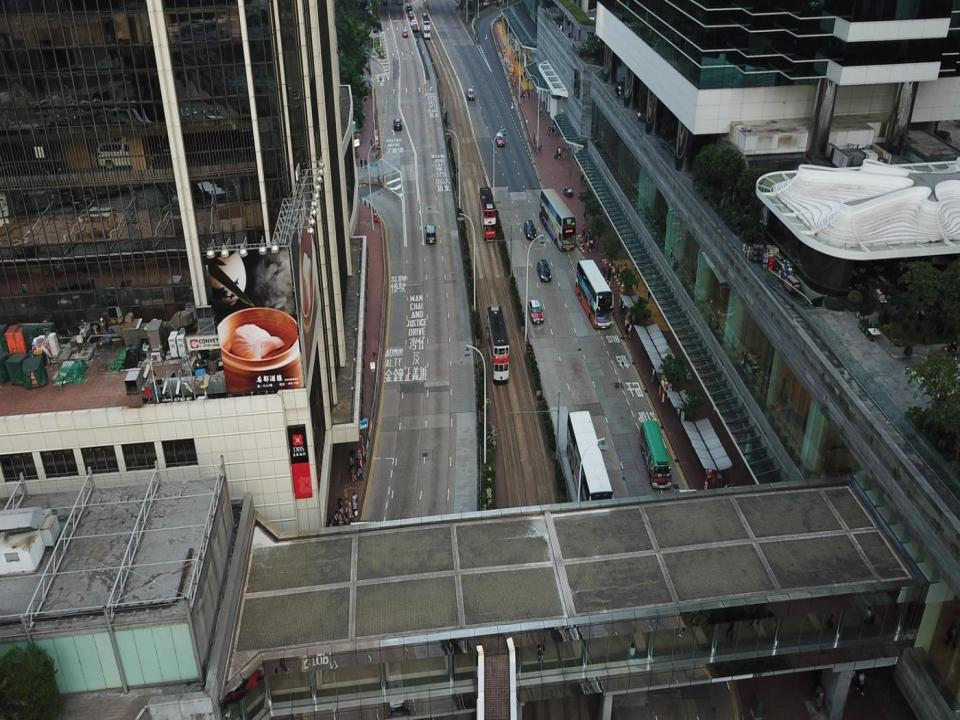bus: (566, 410, 613, 521), (575, 259, 614, 329), (540, 188, 576, 251), (639, 421, 671, 489), (487, 305, 509, 384), (480, 188, 496, 241), (421, 13, 431, 39)
car: (111, 135, 157, 158), (235, 130, 272, 154), (529, 299, 544, 324), (536, 260, 552, 282), (424, 224, 437, 244), (524, 220, 536, 240), (496, 133, 504, 146), (394, 118, 402, 130), (467, 88, 474, 100), (373, 23, 378, 33), (402, 29, 408, 37), (412, 24, 418, 32), (407, 4, 412, 12), (408, 12, 414, 18), (411, 19, 416, 26)
van: (97, 142, 155, 170), (2, 166, 59, 194)
